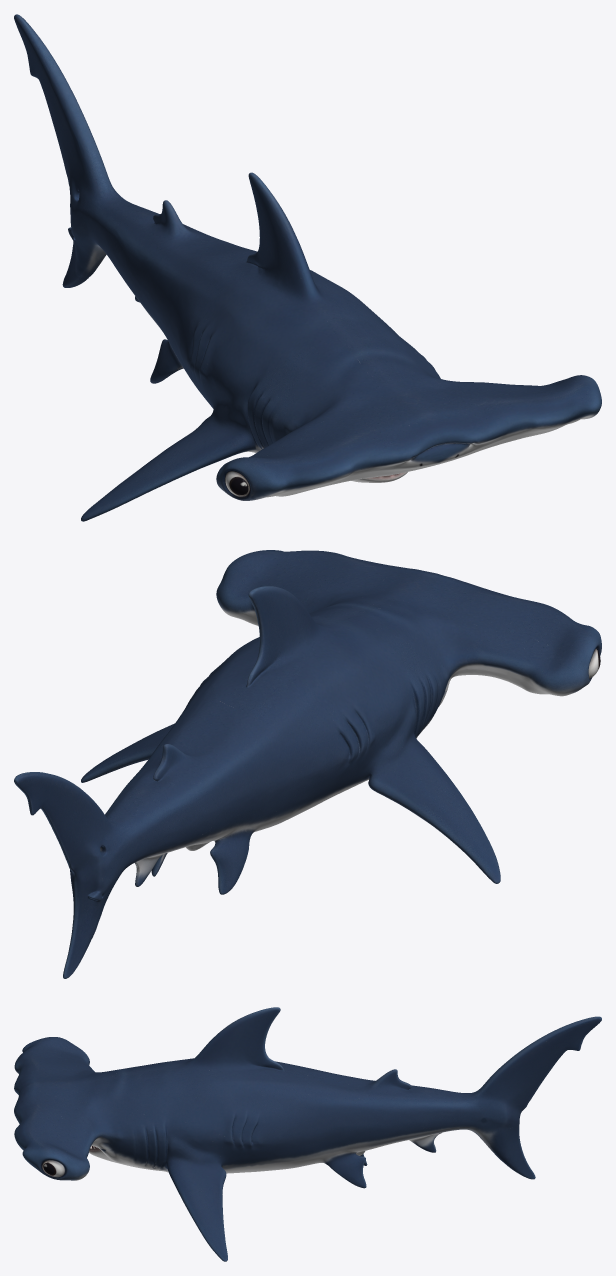
The picture shows the model from 3 angles, top to bottom: view 1: azimuth 30°, elevation 25°; view 2: azimuth 150°, elevation 25°; view 3: azimuth 270°, elevation 25°; orthographic projection. The views are drawn at different scales.
Size of the model in its own units: 1.07 by 0.6583 by 1.9.
1 material, 1 textured.
